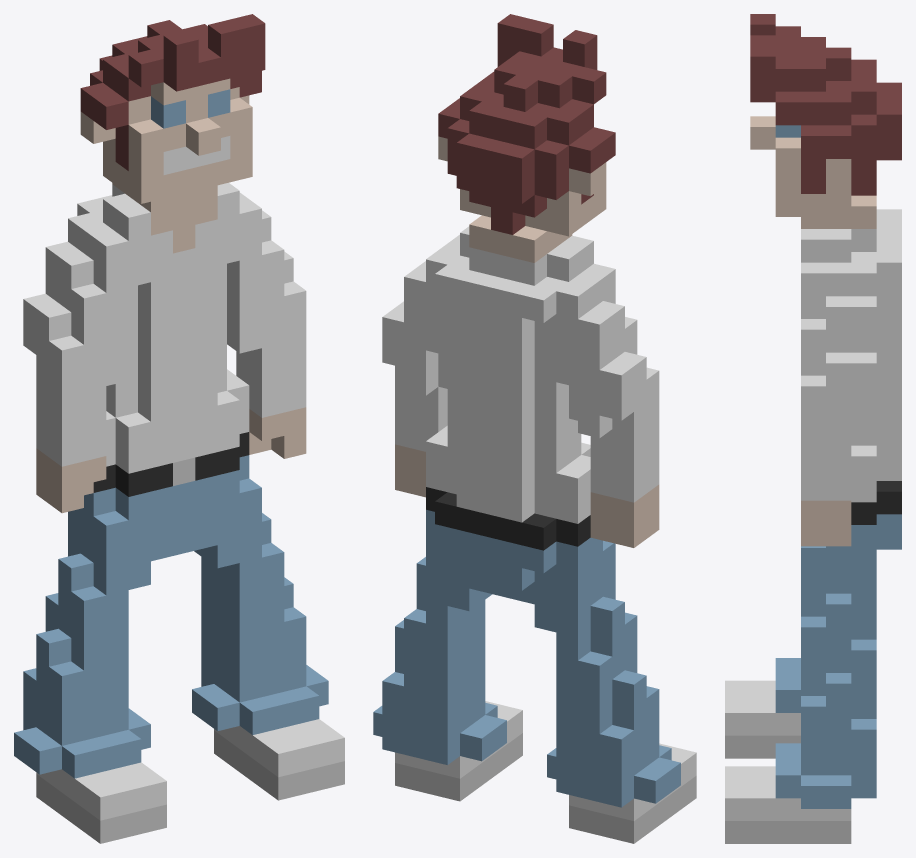
Rendered from man6_v1.fbx.
The picture shows the model from 3 angles, left to right: view 1: azimuth 30°, elevation 25°; view 2: azimuth 150°, elevation 25°; view 3: azimuth 270°, elevation 25°; orthographic projection. The views are drawn at different scales.
Parts seen in each view (by area): view 1: man6; view 2: man6; view 3: man6.
Boxes of the visible parts, <box> form: man6: <box>14,14,344,843</box>; man6: <box>373,14,696,843</box>; man6: <box>725,14,901,843</box>.
Bounding box in the file's own units: 13 × 33 × 7.
